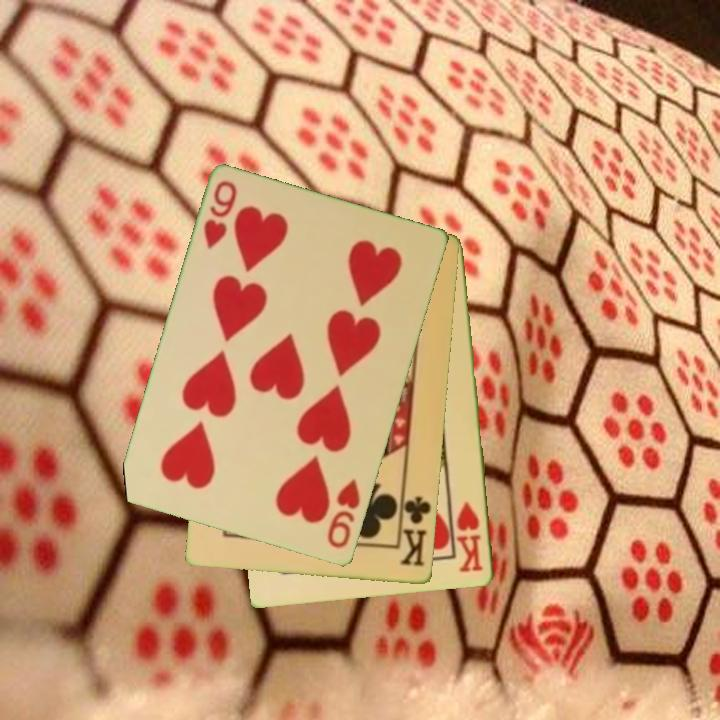9h: (324, 476, 364, 552), (200, 177, 240, 253)
Kc: (396, 489, 435, 570)
Kh: (453, 499, 486, 576)
